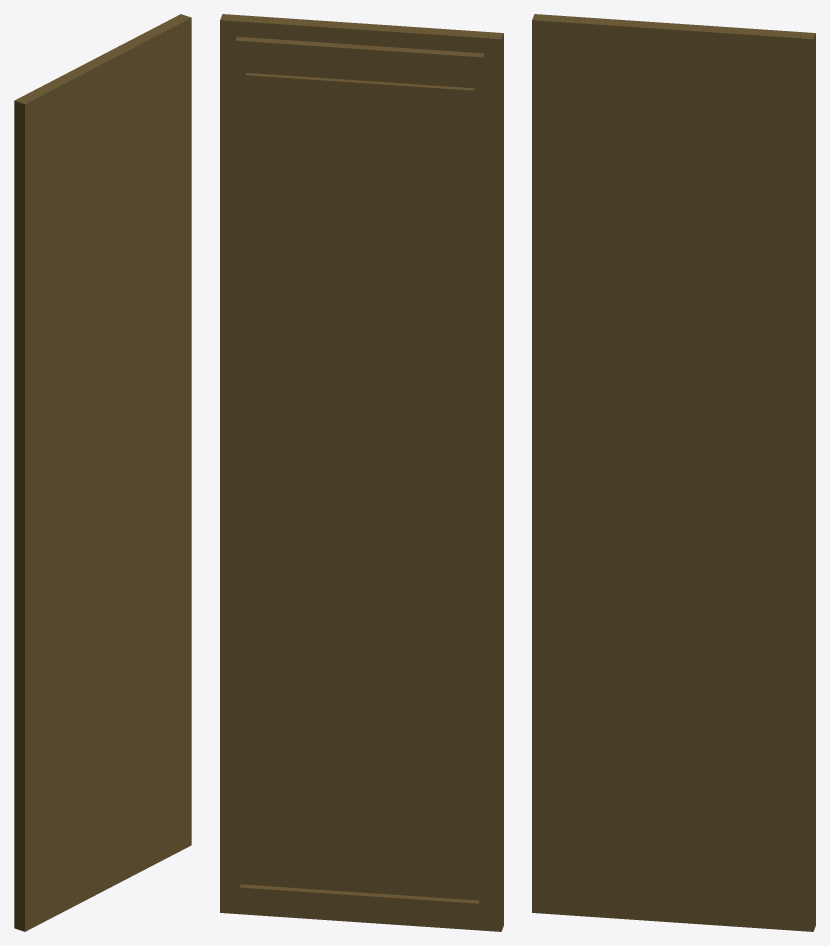
File: dulap usa.fbx
The picture shows the model from 3 angles, left to right: view 1: azimuth 30°, elevation 25°; view 2: azimuth 150°, elevation 25°; view 3: azimuth 330°, elevation 25°; orthographic projection. The views are drawn at different scales.
Visible parts, largest first — view 1: Cube.049; view 2: Cube.049; view 3: Cube.049.
Part boxes in pixels (x1,y1,x2,y2): Cube.049: [14, 14, 191, 931]; Cube.049: [220, 14, 503, 931]; Cube.049: [532, 14, 815, 931].
Bounding box in the file's own units: 62.92 × 228 × 27.41.
